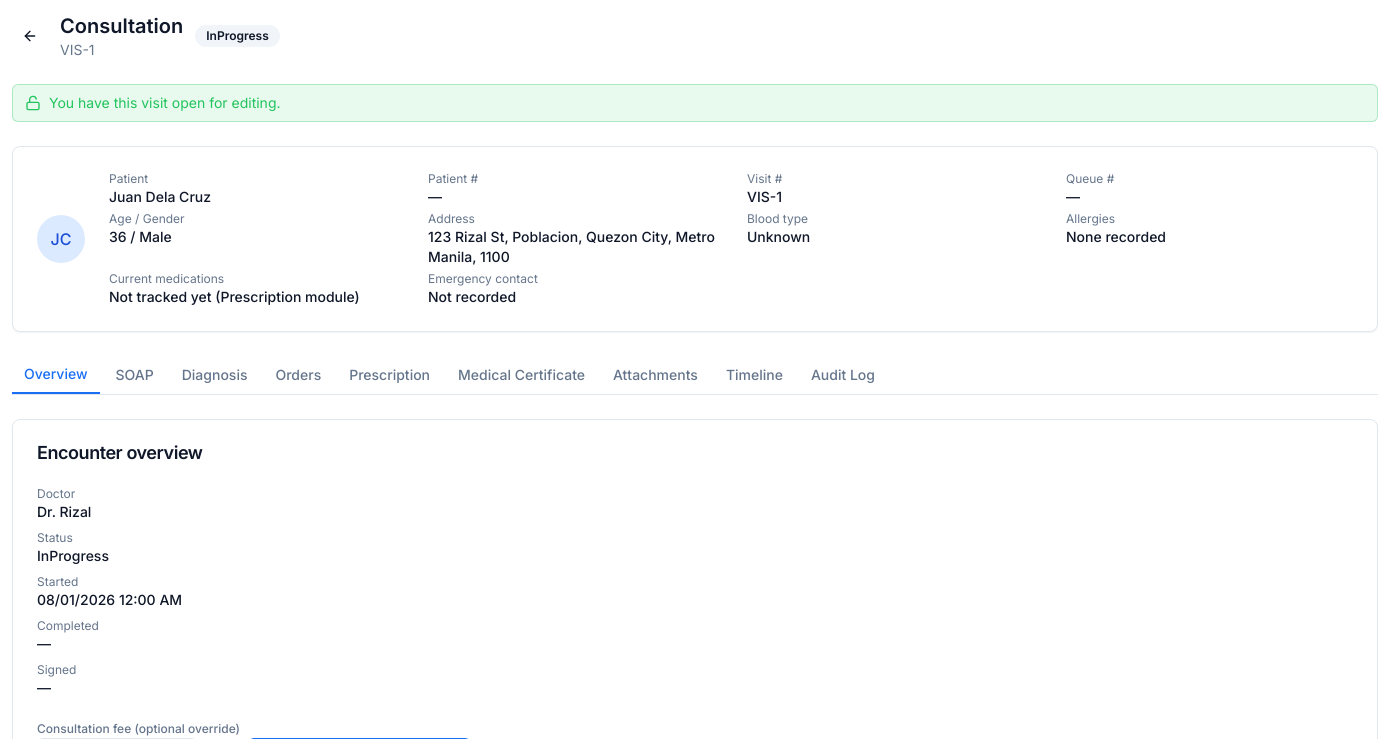
Scenario: ConsultationPage - SOAP suggestion fields (Task #2) › existing (historical) SOAP values render, remain editable, and other fields are untouched
Click the tab "SOAP" at (135, 375), box [104,356,166,394]
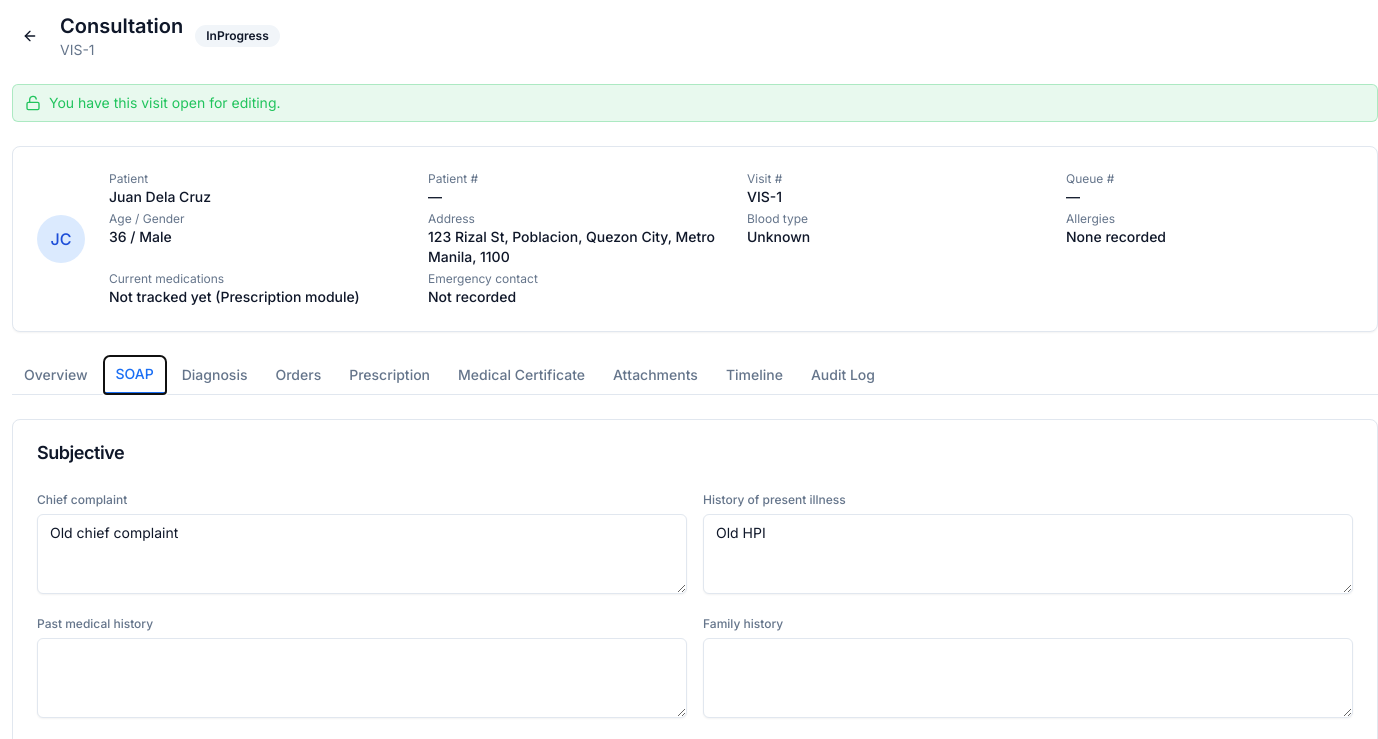
expect the text box named "Chief complaint" holds "Old chief complaint": met
expect the text box below "History of present illness" holds "Old HPI": met, box [703,514,1353,594]
Type " edited" into the text box named "Chief complaint" at (362, 554), box [37,514,687,594]
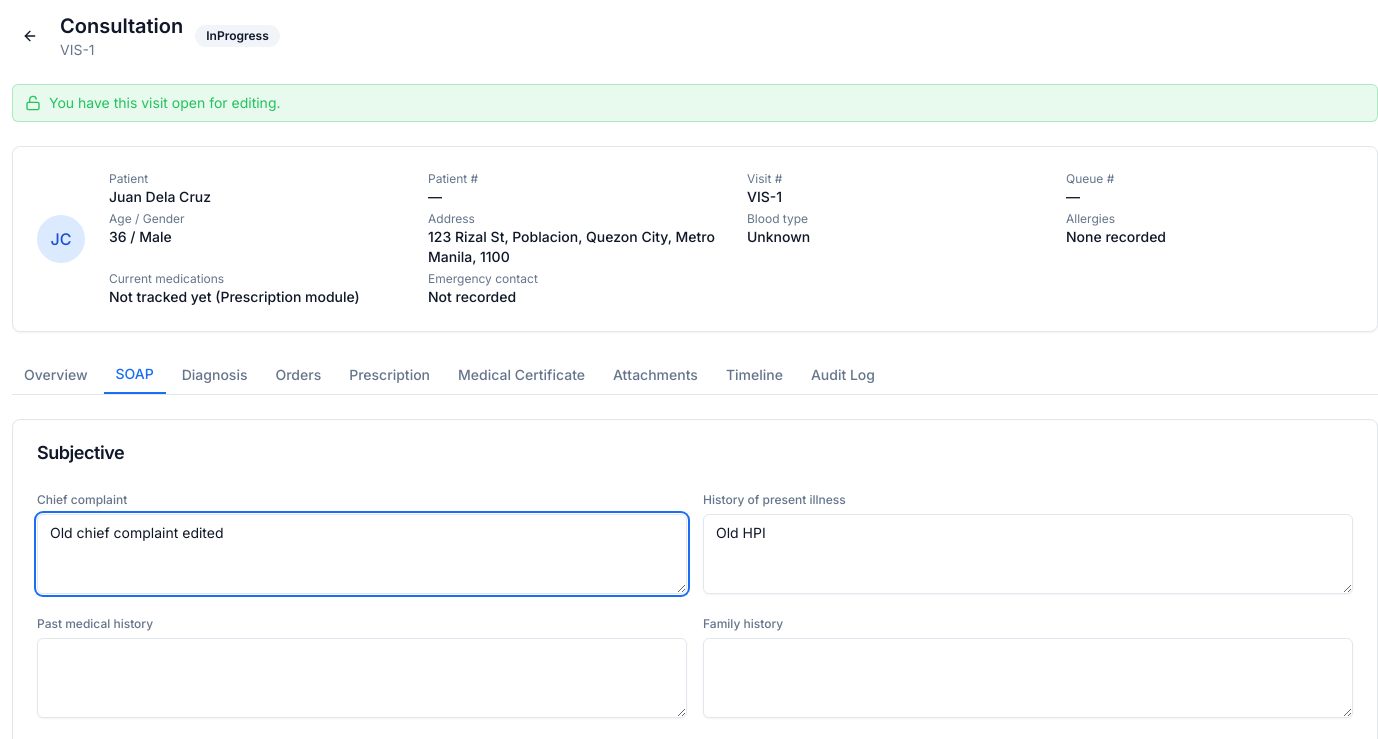
expect the text box below "History of present illness" holds "Old HPI": met, box [703,514,1353,594]
expect the text box named "Chief complaint" holds "Old chief complaint edited": met, box [37,514,687,594]
